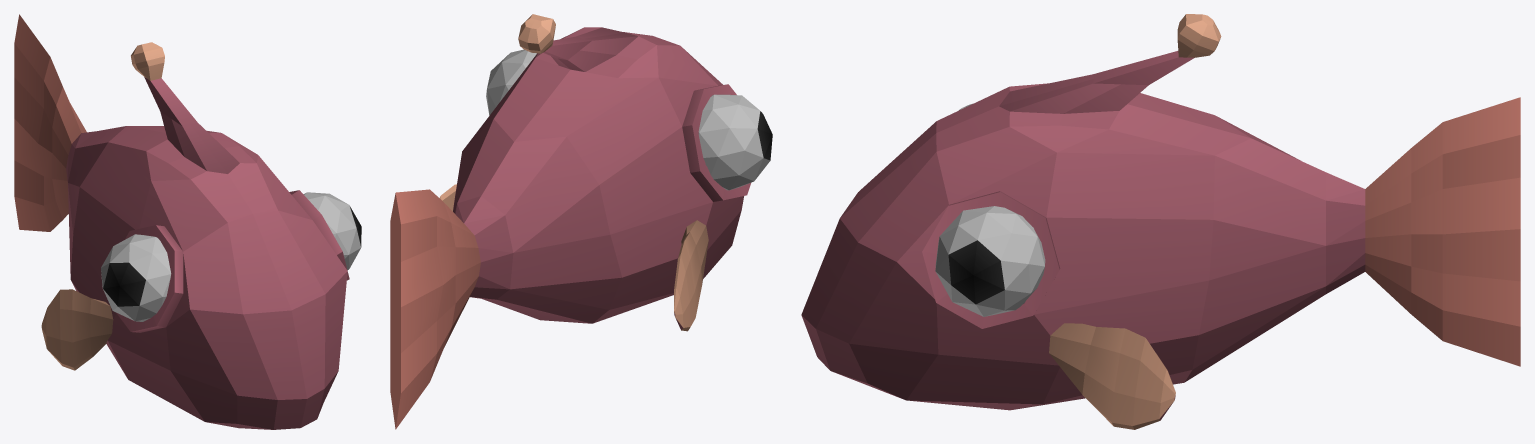
The model's file is radar_fish.glb.
3 renders of one model, left to right at view 1: azimuth 30°, elevation 25°; view 2: azimuth 150°, elevation 25°; view 3: azimuth 270°, elevation 25°, orthographic. The views are drawn at different scales.
Visible parts, largest first — view 1: Cube.121, eye.shaded.036, eye.shaded.035; view 2: Cube.121, eye.shaded.036, eye.shaded.035; view 3: Cube.121, eye.shaded.035.
Part boxes in pixels (left/top/right/bottom): Cube.121: left=14, top=14, right=349, bottom=429; eye.shaded.036: left=101, top=234, right=171, bottom=321; eye.shaded.035: left=303, top=192, right=361, bottom=270; Cube.121: left=390, top=14, right=750, bottom=429; eye.shaded.036: left=698, top=94, right=772, bottom=190; eye.shaded.035: left=486, top=49, right=536, bottom=115; Cube.121: left=801, top=14, right=1520, bottom=429; eye.shaded.035: left=935, top=206, right=1045, bottom=316.
Bounding box in the file's own units: 2.61 × 2.91 × 5.21.
3 materials, 3 textured.
